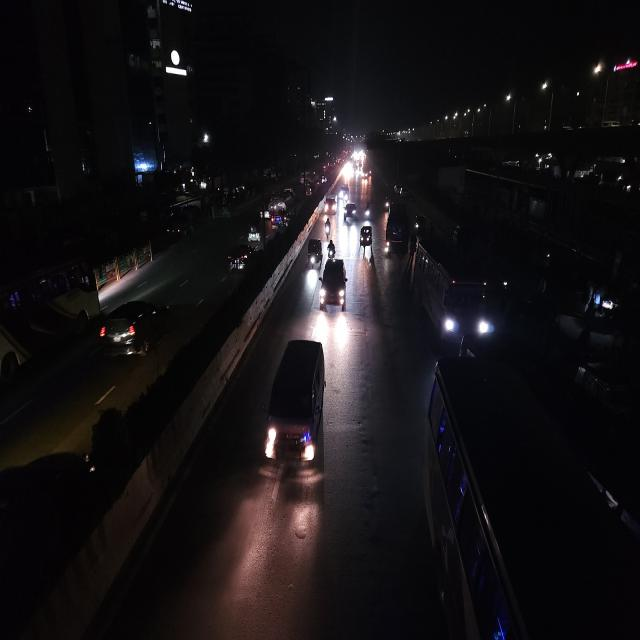bus: (426, 351, 638, 639), (0, 252, 104, 396), (410, 229, 492, 343), (382, 197, 412, 260)
car: (263, 334, 329, 479), (100, 294, 170, 359), (318, 255, 349, 313), (224, 241, 255, 278), (343, 200, 358, 228)
cng: (306, 235, 323, 271), (358, 221, 374, 256), (247, 220, 263, 247)
motorcycle: (325, 237, 337, 262), (323, 215, 334, 240), (363, 200, 373, 222)
truck: (266, 186, 296, 225), (324, 194, 338, 215)
